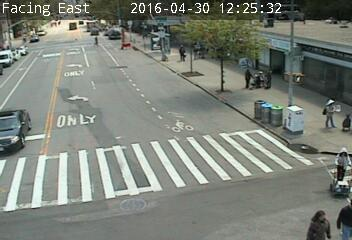neg: (284, 104, 308, 136), (231, 151, 251, 178), (91, 78, 111, 104), (174, 118, 193, 144), (209, 61, 226, 84), (248, 94, 264, 115), (51, 59, 67, 80), (46, 89, 62, 110), (27, 121, 42, 142), (106, 157, 120, 176), (270, 106, 284, 124), (298, 19, 312, 37), (4, 34, 18, 51), (4, 105, 17, 122), (138, 50, 148, 64), (27, 24, 37, 38), (154, 39, 162, 50), (142, 28, 150, 39)
pos: (316, 95, 343, 131), (329, 142, 351, 182), (333, 198, 351, 234), (308, 208, 330, 236), (261, 69, 277, 91), (243, 67, 257, 87), (176, 42, 190, 61), (92, 33, 105, 50)
